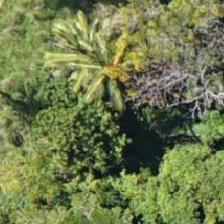coconut_tree: (55, 5, 145, 95)
